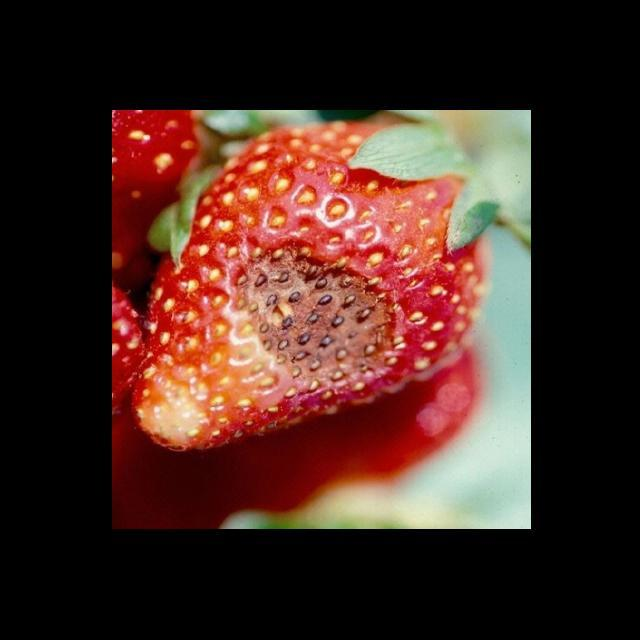Anthracnose Fruit Rot: (228, 232, 402, 401)
